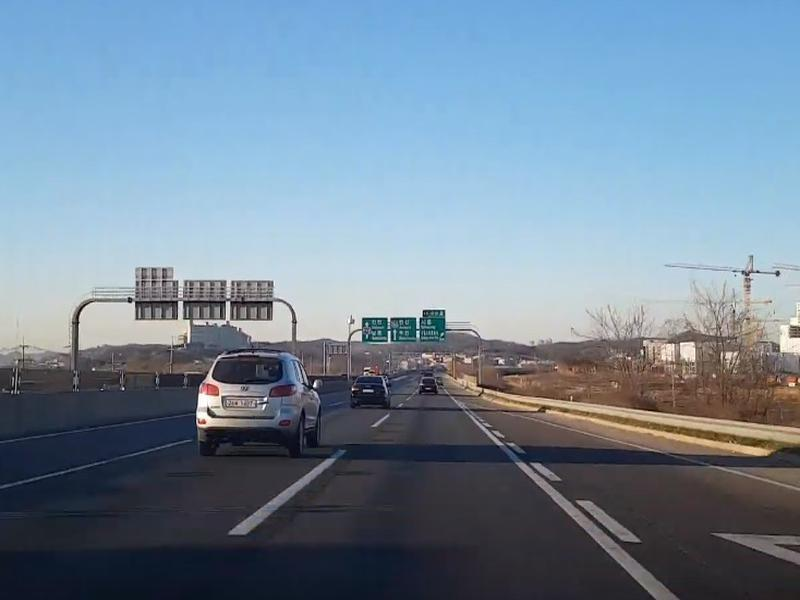car: (197, 348, 321, 453), (351, 374, 390, 405), (419, 377, 437, 394)
lane: (235, 456, 335, 535), (582, 499, 637, 544), (533, 461, 560, 480), (374, 414, 389, 426)
